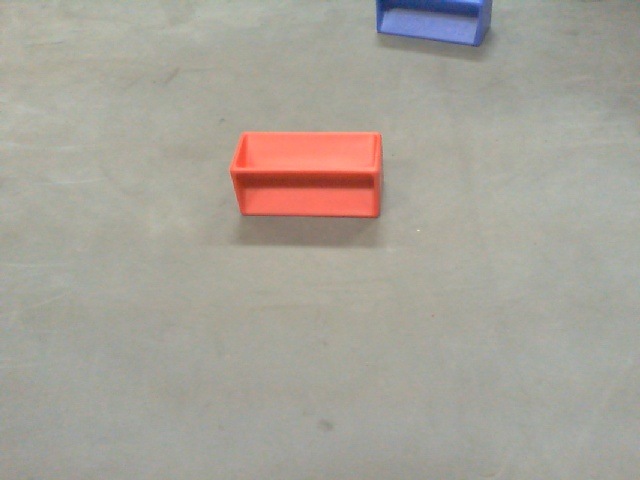BlueSample: (377, 1, 496, 52)
RedSample: (228, 130, 388, 221)
